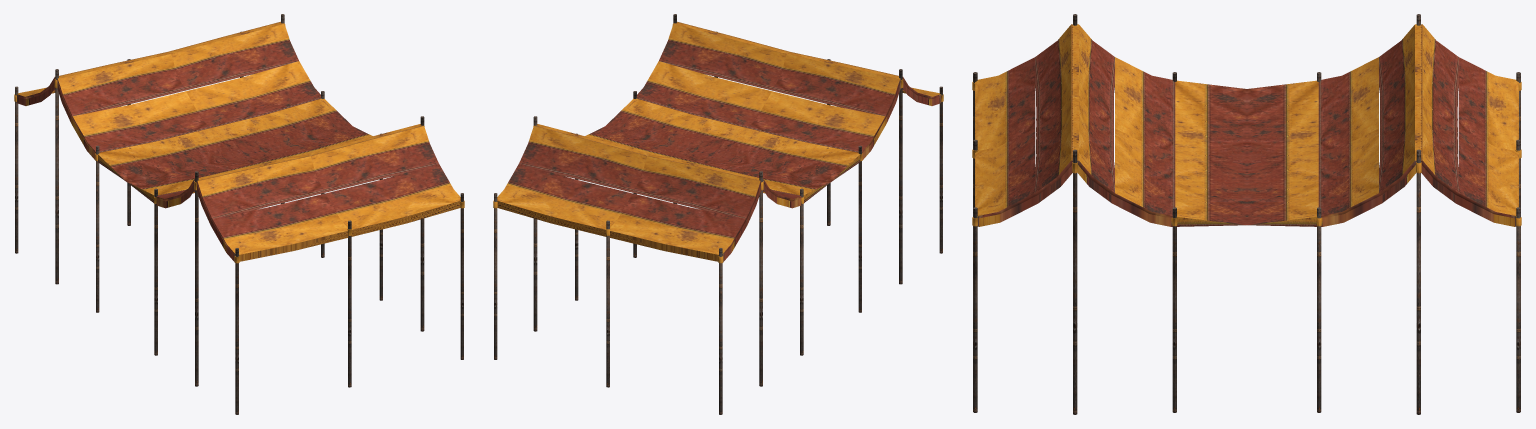
Rendered from garage_tent.dae.
3 views of the same model, side by side, from view 1: azimuth 30°, elevation 25°; view 2: azimuth 150°, elevation 25°; view 3: azimuth 270°, elevation 25° (orthographic). The views are drawn at different scales.
Visible parts, largest first — view 1: storehouse.002; view 2: storehouse.002; view 3: storehouse.002.
Boxes of the visible parts, x1=… form: storehouse.002: x1=14, y1=14, x2=464, y2=414; storehouse.002: x1=493, y1=14, x2=943, y2=414; storehouse.002: x1=972, y1=14, x2=1521, y2=414.
Size of the model in its own units: 15.46 by 25.98 by 13.75.
